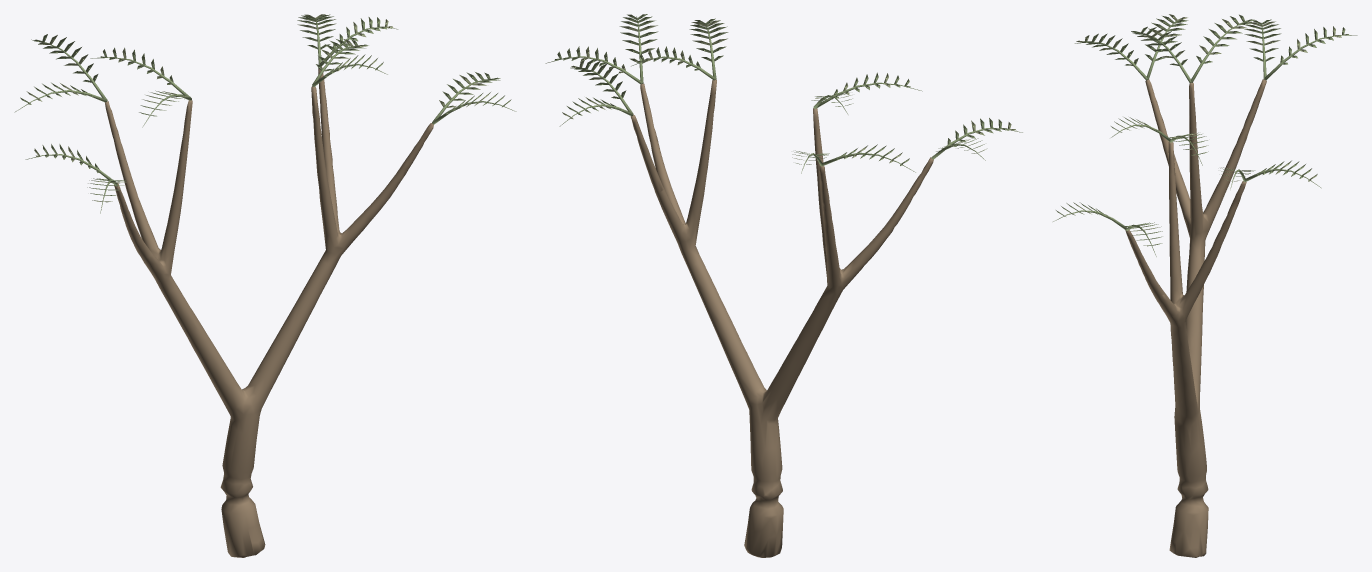
The model's file is wielandiella.glb.
3 views of the same model, side by side, from view 1: azimuth 30°, elevation 25°; view 2: azimuth 150°, elevation 25°; view 3: azimuth 270°, elevation 25° (orthographic). The views are drawn at different scales.
Parts seen in each view (by area): view 1: open-divaricate-bennettitalean-shrub-scaffold, small-terminal-leaf-clusters-with-visible-branch-support, slender-pinnate-leaf-axes; view 2: open-divaricate-bennettitalean-shrub-scaffold, small-terminal-leaf-clusters-with-visible-branch-support, slender-pinnate-leaf-axes; view 3: open-divaricate-bennettitalean-shrub-scaffold, small-terminal-leaf-clusters-with-visible-branch-support, slender-pinnate-leaf-axes.
Part boxes in pixels (x1,y1,x2,y2): open-divaricate-bennettitalean-shrub-scaffold: [105, 66, 433, 557]; small-terminal-leaf-clusters-with-visible-branch-support: [20, 14, 511, 202]; slender-pinnate-leaf-axes: [14, 20, 516, 213]; open-divaricate-bennettitalean-shrub-scaffold: [630, 79, 933, 557]; small-terminal-leaf-clusters-with-visible-branch-support: [554, 14, 1016, 165]; slender-pinnate-leaf-axes: [545, 16, 1022, 173]; open-divaricate-bennettitalean-shrub-scaffold: [1125, 79, 1266, 557]; small-terminal-leaf-clusters-with-visible-branch-support: [1056, 14, 1349, 246]; slender-pinnate-leaf-axes: [1053, 19, 1357, 256].
Size of the model in its own units: 0.7611 by 0.7955 by 0.4537.
